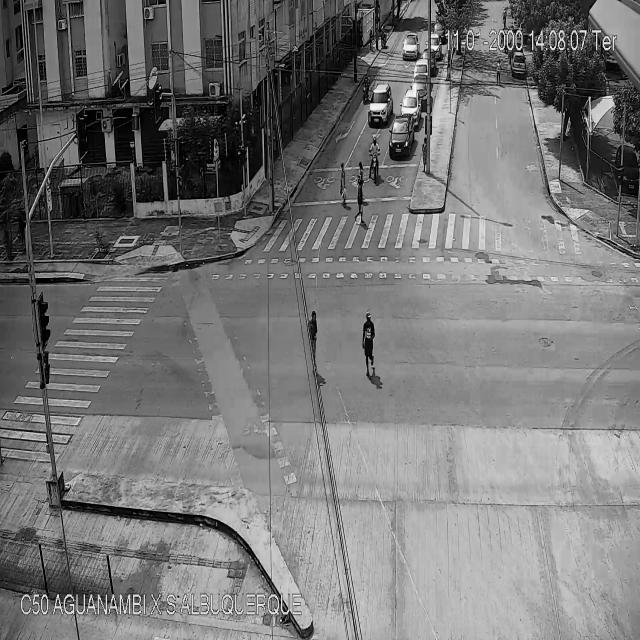Car: (370, 84, 393, 127), (388, 118, 414, 156), (401, 90, 421, 122), (412, 76, 428, 110), (402, 32, 418, 59), (413, 57, 429, 83), (512, 53, 526, 76), (428, 36, 442, 58), (434, 21, 445, 41)
Motorcycle: (369, 137, 380, 182), (362, 73, 370, 102)
